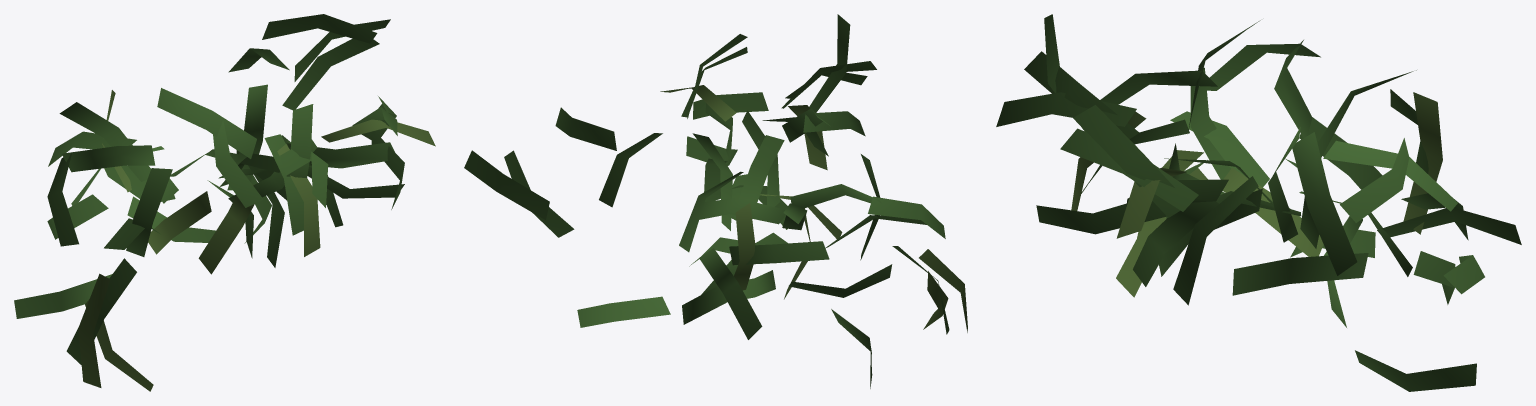
Rendered from arbusto_1_muito_longe.glb.
3 views of the same model, side by side, from view 1: azimuth 30°, elevation 25°; view 2: azimuth 150°, elevation 25°; view 3: azimuth 270°, elevation 25° (orthographic). The views are drawn at different scales.
Parts seen in each view (by area): view 1: arbusto_1_muito_longe; view 2: arbusto_1_muito_longe; view 3: arbusto_1_muito_longe.
Boxes of the visible parts, x1=… form: arbusto_1_muito_longe: x1=14, y1=14, x2=435, y2=391; arbusto_1_muito_longe: x1=464, y1=14, x2=967, y2=388; arbusto_1_muito_longe: x1=996, y1=14, x2=1521, y2=391.
Size of the model in its own units: 0.965 by 0.6189 by 0.8234.
